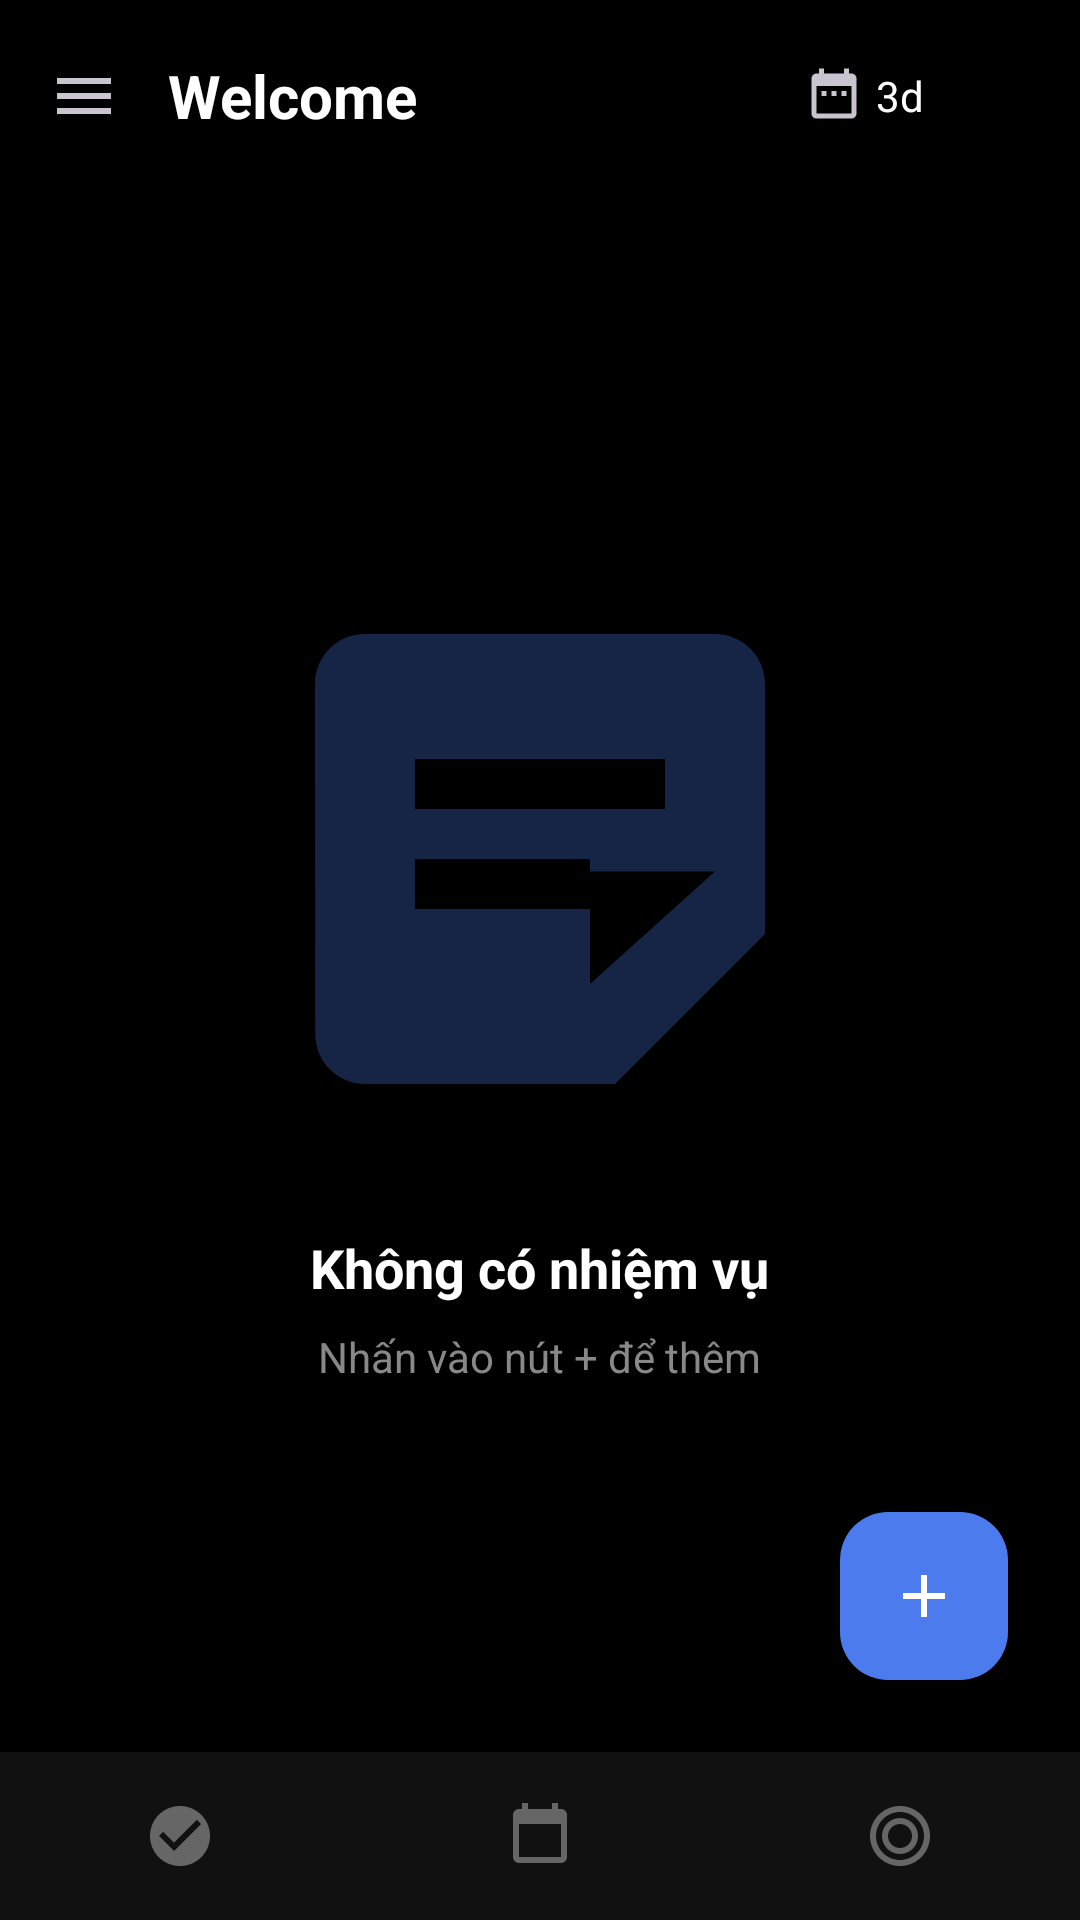

Where to tap for icons on this 1080px×1920px app screen, as point (x, y):
Add task: point (924, 1596)
